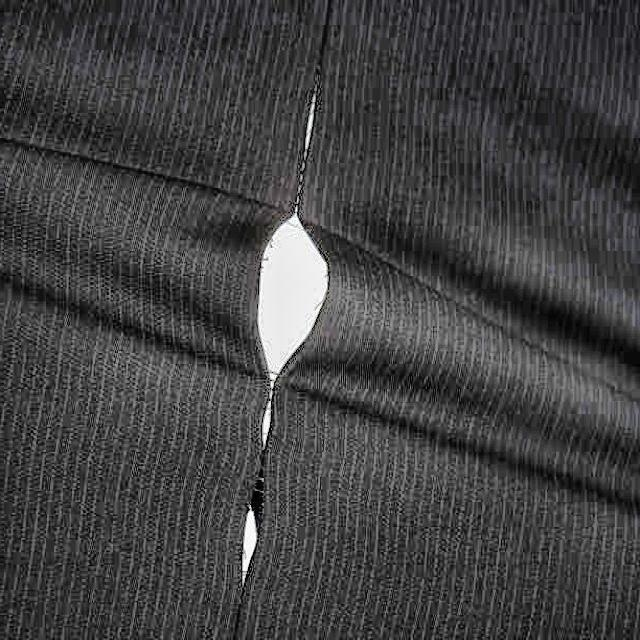seam: (186, 75, 397, 473), (202, 162, 376, 469), (212, 479, 289, 602)
